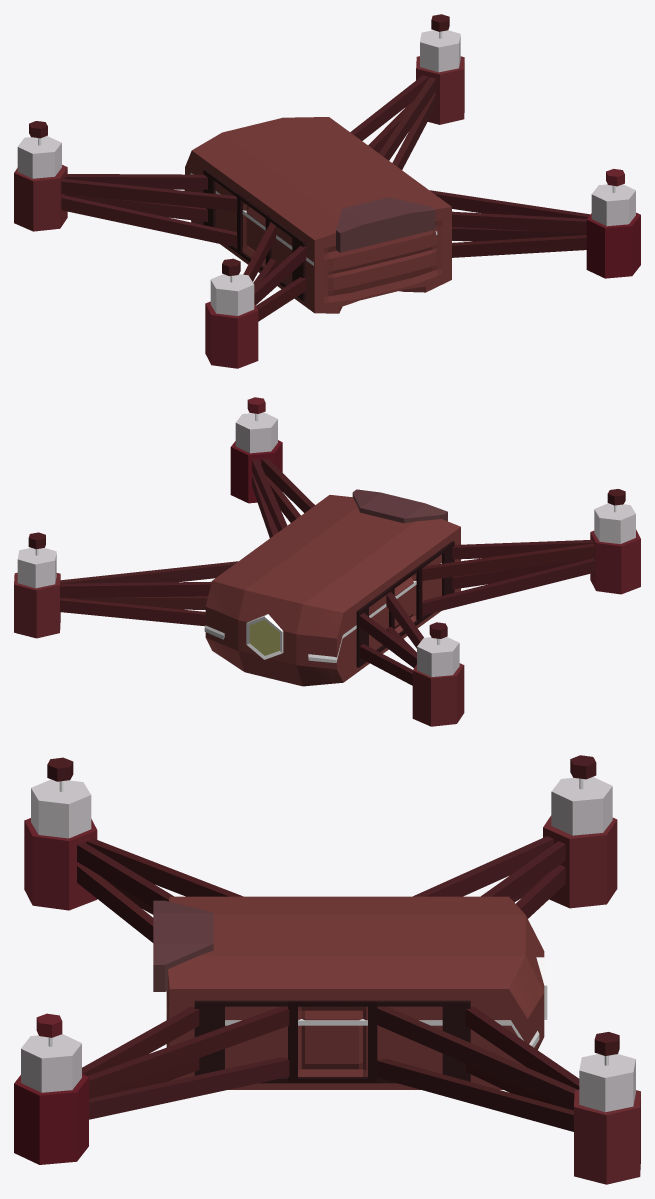
The model's file is body_03_red.97187059.glb.
The picture shows the model from 3 angles, top to bottom: view 1: azimuth 30°, elevation 25°; view 2: azimuth 150°, elevation 25°; view 3: azimuth 270°, elevation 25°; orthographic projection. The views are drawn at different scales.
Parts seen in each view (by area): view 1: Cube.001_2.001, Cubo_3.001, Cilindro.004_25.001, Cilindro.003_23.001, Cubo.003_9.001, Cubo.004_8.001, Cilindro.002_22.001, Cubo.008_10.001, Cubo.007_11.001, Cilindro.005_24.001, Cubo.005_13.001, Cubo.001_6.001 (+14 smaller); view 2: Cube.001_2.001, Cilindro.002_22.001, Cubo.010_20.001, Cubo.009_21.001, Cilindro.003_23.001, Cilindro.005_24.001, Cubo.013_17.001, Cubo.014_16.001, Cubo_3.001, Cubo.016_14.001, Cilindro.004_25.001, Cilindro.006_26.001 (+18 smaller); view 3: Cube.001_2.001, Cilindro.004_25.001, Cilindro.005_24.001, Cubo.016_14.001, Cubo.005_13.001, Cilindro.003_23.001, Cilindro.002_22.001, Cubo.006_12.001, Cubo.015_15.001, Cubo.018_47.001, Cubo_3.001, Cilindro.017_41.001 (+15 smaller).
Part boxes in pixels (box(x1,y1,x2,y2)): Cube.001_2.001: box(185, 117, 451, 313); Cubo_3.001: box(336, 197, 435, 252); Cilindro.004_25.001: box(586, 212, 640, 278); Cilindro.003_23.001: box(205, 301, 258, 368); Cubo.003_9.001: box(61, 195, 237, 247); Cubo.004_8.001: box(61, 179, 237, 211); Cilindro.002_22.001: box(14, 165, 67, 231); Cubo.008_10.001: box(452, 211, 586, 233); Cubo.007_11.001: box(452, 235, 586, 257); Cilindro.005_24.001: box(416, 56, 464, 124); Cubo.005_13.001: box(430, 190, 590, 218); Cubo.001_6.001: box(64, 174, 207, 189); Cube.001_2.001: box(205, 495, 460, 686); Cilindro.002_22.001: box(412, 663, 464, 726); Cubo.010_20.001: box(422, 558, 595, 615); Cubo.009_21.001: box(422, 543, 595, 580); Cilindro.003_23.001: box(590, 529, 640, 594); Cilindro.005_24.001: box(14, 572, 60, 638); Cubo.013_17.001: box(60, 581, 211, 598); Cubo.014_16.001: box(60, 598, 205, 626); Cubo_3.001: box(352, 489, 447, 523); Cubo.016_14.001: box(60, 561, 238, 583); Cilindro.004_25.001: box(230, 440, 282, 503); Cilindro.006_26.001: box(235, 412, 277, 453); Cube.001_2.001: box(166, 896, 544, 1089); Cilindro.004_25.001: box(14, 1074, 88, 1164); Cilindro.005_24.001: box(574, 1090, 640, 1184); Cubo.016_14.001: box(377, 1007, 577, 1110); Cubo.005_13.001: box(87, 1007, 289, 1097); Cilindro.003_23.001: box(24, 818, 97, 910); Cilindro.002_22.001: box(543, 815, 617, 908); Cubo.006_12.001: box(89, 1057, 289, 1119); Cubo.015_15.001: box(377, 1059, 573, 1131); Cubo.018_47.001: box(194, 1000, 470, 1083); Cubo_3.001: box(153, 900, 213, 991); Cilindro.017_41.001: box(551, 777, 612, 835).
Size of the model in its own units: 3.2 by 0.7904 by 2.76.
